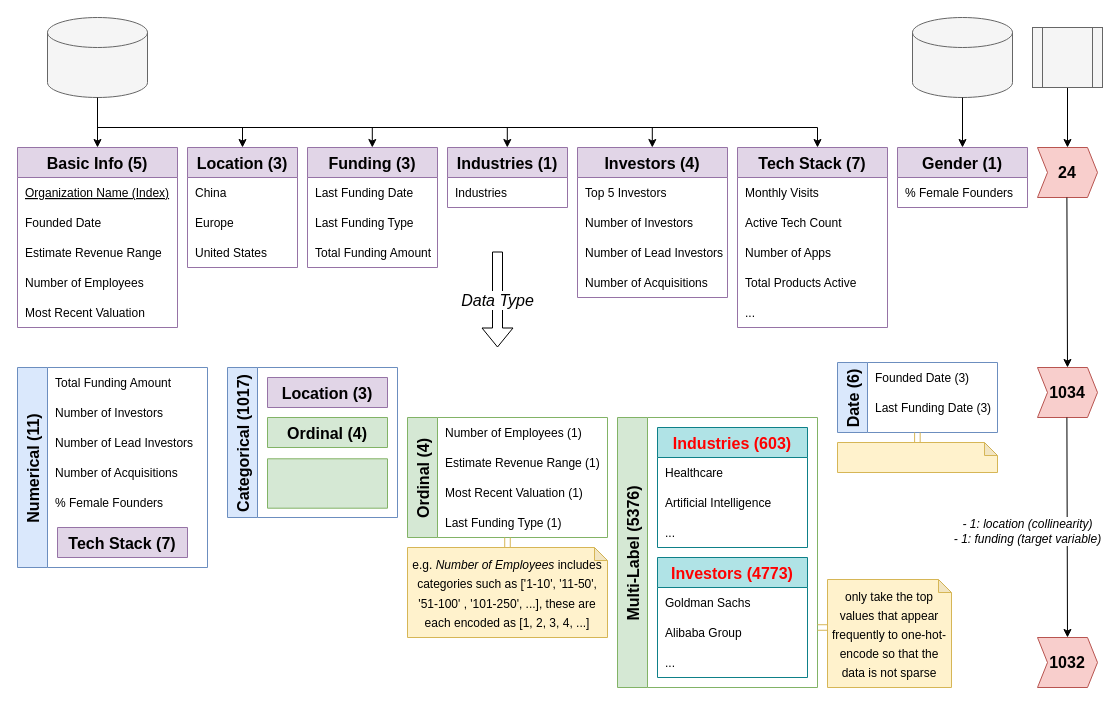
The diagram is 1120 pixels wide and 705 high, and some of its shapes have lost their labels. Here are the shapes that lost their labels. From the top down, the centre of each, then its label:
At pixel 97 57: "Crunchbase".
At pixel 962 57: "Namesor".
At pixel 1067 57: "# Coef.".
At pixel 917 457: "separate day, month, year".
At pixel 327 483: "Multi-Label (1010)".
